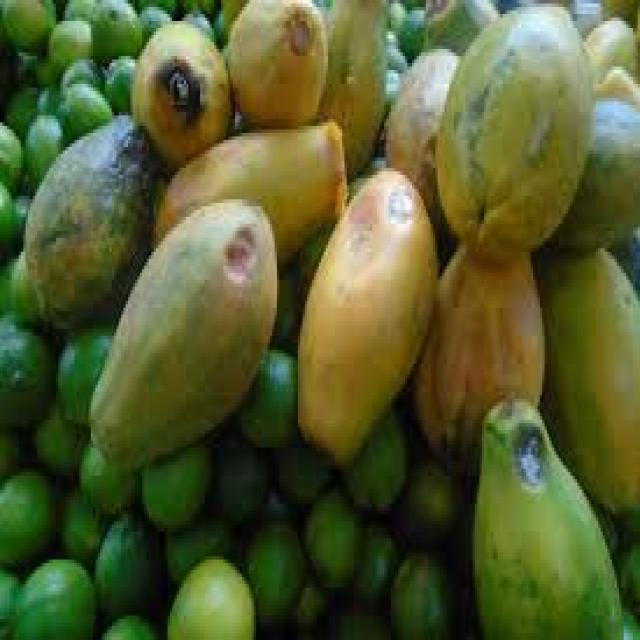organic waste: (86, 192, 277, 469), (296, 165, 435, 472), (428, 0, 591, 252), (470, 392, 621, 636), (533, 241, 638, 535), (412, 234, 540, 469), (149, 115, 344, 266), (21, 108, 154, 326), (547, 88, 638, 248), (130, 18, 233, 158), (382, 38, 461, 220), (224, 0, 324, 126), (316, 0, 386, 178), (242, 497, 303, 633), (163, 552, 251, 636), (93, 507, 161, 612), (7, 556, 95, 637), (0, 462, 61, 574), (342, 402, 405, 507), (140, 441, 210, 532), (302, 479, 358, 588), (0, 308, 51, 427), (391, 549, 458, 637), (394, 451, 458, 542), (238, 350, 296, 448), (56, 322, 112, 423), (163, 496, 228, 580), (395, 0, 495, 52), (212, 426, 265, 524), (77, 434, 135, 514), (30, 392, 84, 476), (58, 472, 105, 560), (347, 514, 393, 602), (582, 10, 638, 77), (270, 437, 326, 504), (58, 80, 112, 136), (0, 0, 56, 52), (7, 245, 40, 325), (326, 594, 388, 636), (24, 112, 61, 182), (272, 266, 305, 343), (46, 18, 90, 74), (91, 0, 137, 49), (588, 63, 638, 108), (614, 528, 638, 616), (291, 570, 326, 630), (607, 224, 638, 290), (93, 608, 163, 636), (0, 238, 26, 311), (589, 500, 621, 556), (2, 80, 44, 122), (104, 52, 132, 112), (0, 560, 19, 633), (137, 4, 170, 46), (0, 122, 23, 181), (61, 52, 102, 84), (0, 419, 23, 475), (298, 228, 328, 270), (35, 80, 70, 116), (179, 7, 212, 45), (9, 189, 28, 245), (0, 175, 14, 248), (60, 0, 96, 21), (30, 56, 54, 87), (133, 0, 179, 14), (214, 4, 224, 46), (619, 612, 635, 637), (181, 0, 221, 10)
